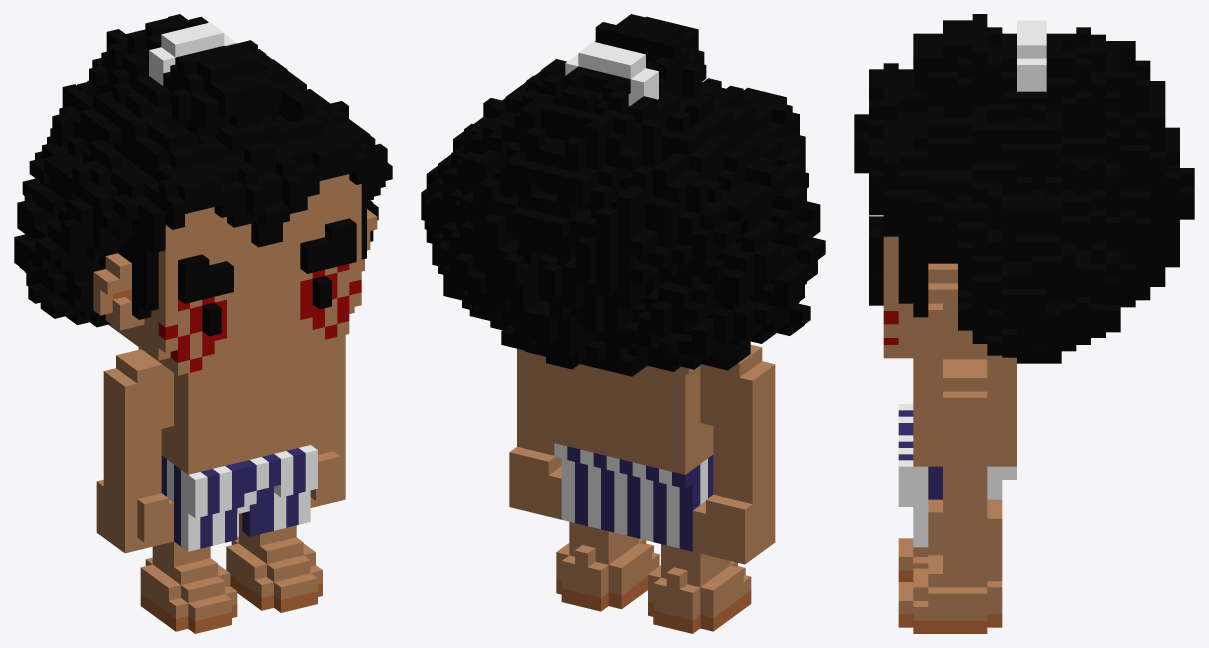
File: asset.glb
3 renders of one model, left to right at view 1: azimuth 30°, elevation 25°; view 2: azimuth 150°, elevation 25°; view 3: azimuth 270°, elevation 25°, orthographic. The views are drawn at different scales.
Visible parts, largest first — view 1: Cube.3589; view 2: Cube.3589; view 3: Cube.3589.
Part boxes in pixels (x1,y1,x2,y2): Cube.3589: [14, 14, 392, 633]; Cube.3589: [421, 14, 825, 633]; Cube.3589: [854, 14, 1194, 633].
Bounding box in the file's own units: 28 × 42 × 23.
